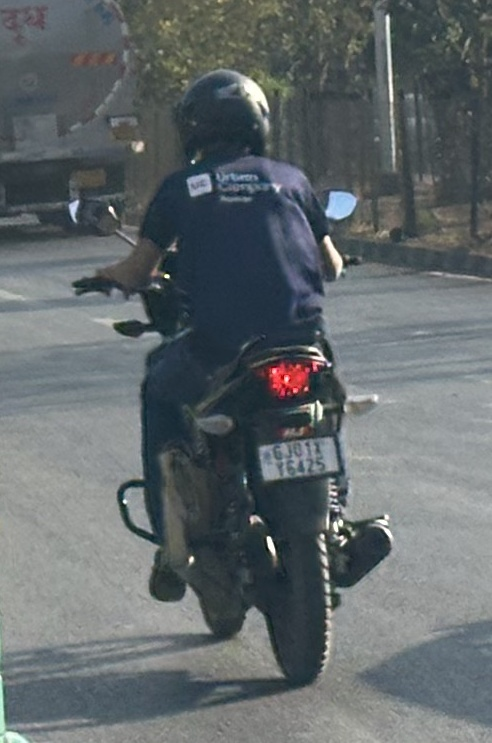BikeWithRider: (66, 66, 392, 686)
Helmet: (171, 66, 277, 168)
